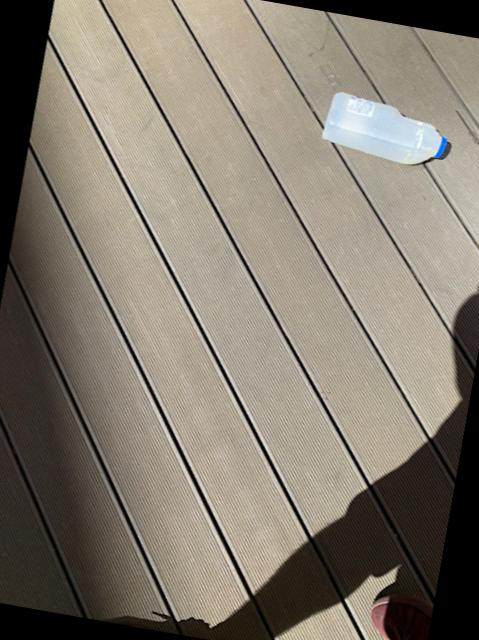plastic: (323, 90, 446, 162)
